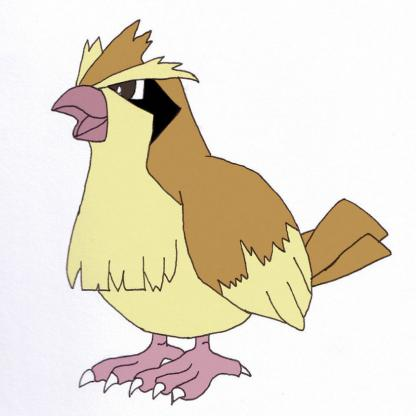Pidgey: (41, 21, 389, 389)
